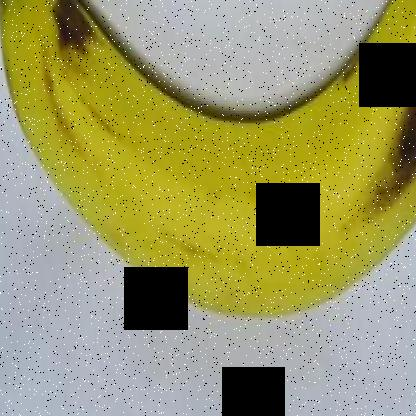freshripe: (0, 1, 415, 328)
